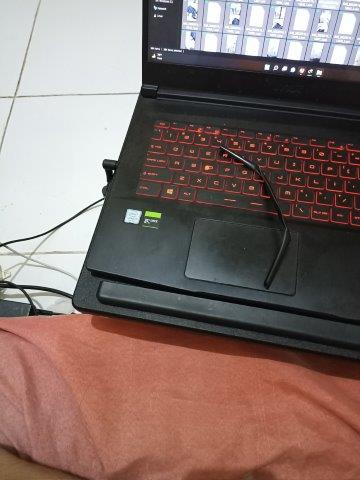sedotan: (221, 147, 290, 286)
